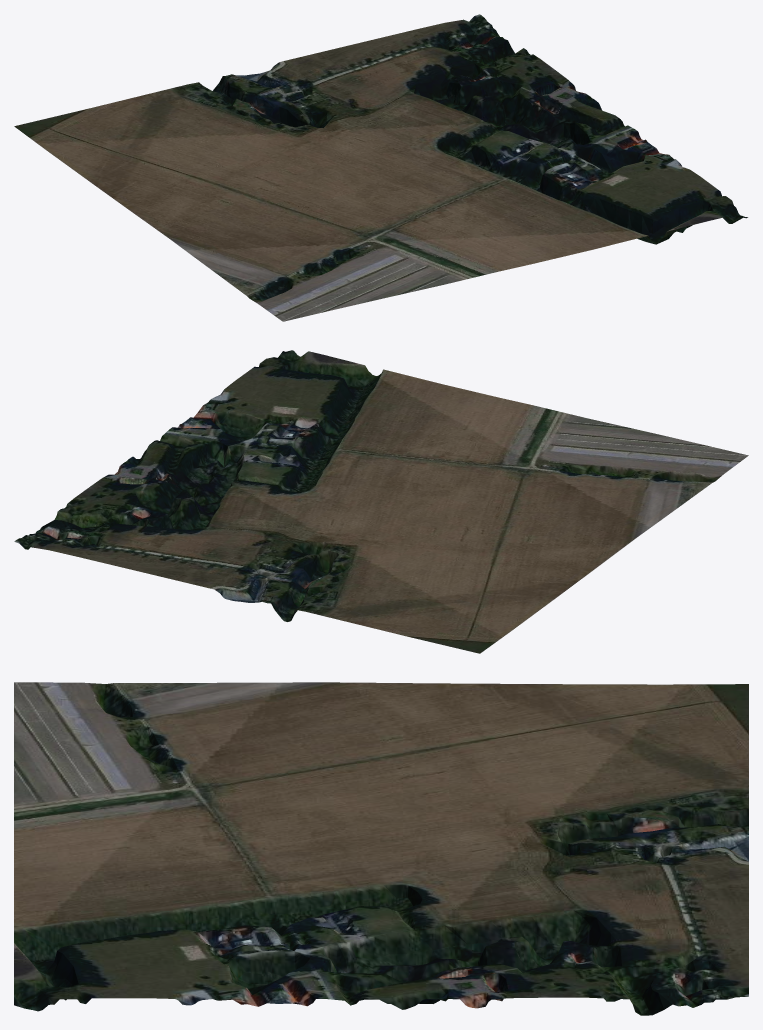
Rendered from map_12_1020_1727.dae.
The picture shows the model from 3 angles, top to bottom: view 1: azimuth 30°, elevation 25°; view 2: azimuth 150°, elevation 25°; view 3: azimuth 270°, elevation 25°; orthographic projection. The views are drawn at different scales.
Visible parts, largest first — view 1: Ter0; view 2: Ter0; view 3: Ter0.
Part boxes in pixels (x1,y1,x2,y2): Ter0: (14, 14, 747, 321); Ter0: (14, 350, 748, 653); Ter0: (14, 682, 748, 1015).
Size of the model in its own units: 511 by 511 by 27.5.
Materials: 2 (2 with a texture image).
